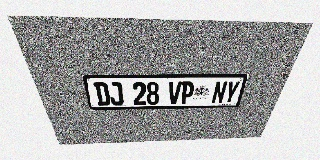2: (132, 82, 146, 105)
8: (146, 82, 159, 105)
D: (93, 82, 111, 106)
J: (108, 82, 124, 105)
N: (211, 81, 228, 104)
P: (180, 81, 195, 104)
V: (168, 82, 182, 104)
Y: (223, 81, 241, 103)
